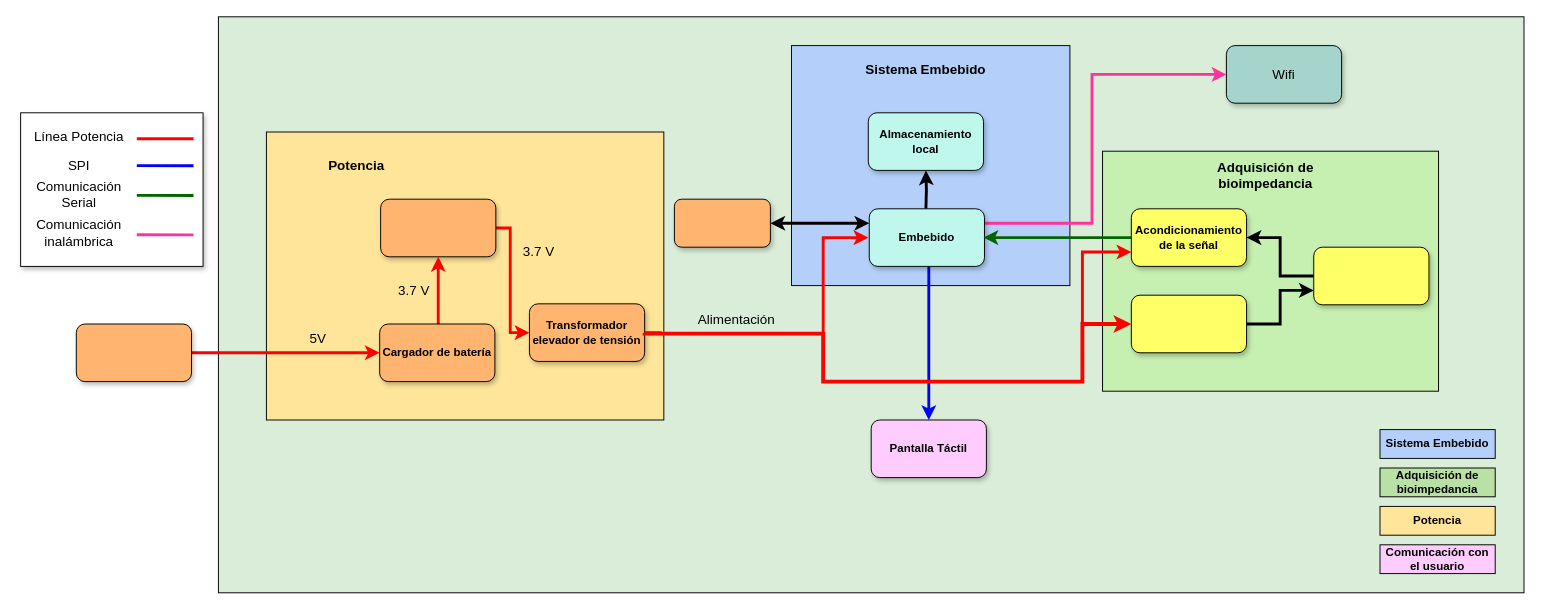
This 1541x610 diagram has some shape labels left out. Here are the shapes that lost their labels. From the top down, the centre of each, then its label:
At point 439,229: "Batería".
At point 723,224: "Botón de Encendido".
At point 1372,277: "Electrodos".
At point 1189,325: "Generador de la señal".
At point 134,353: "Entrada micro USB".
